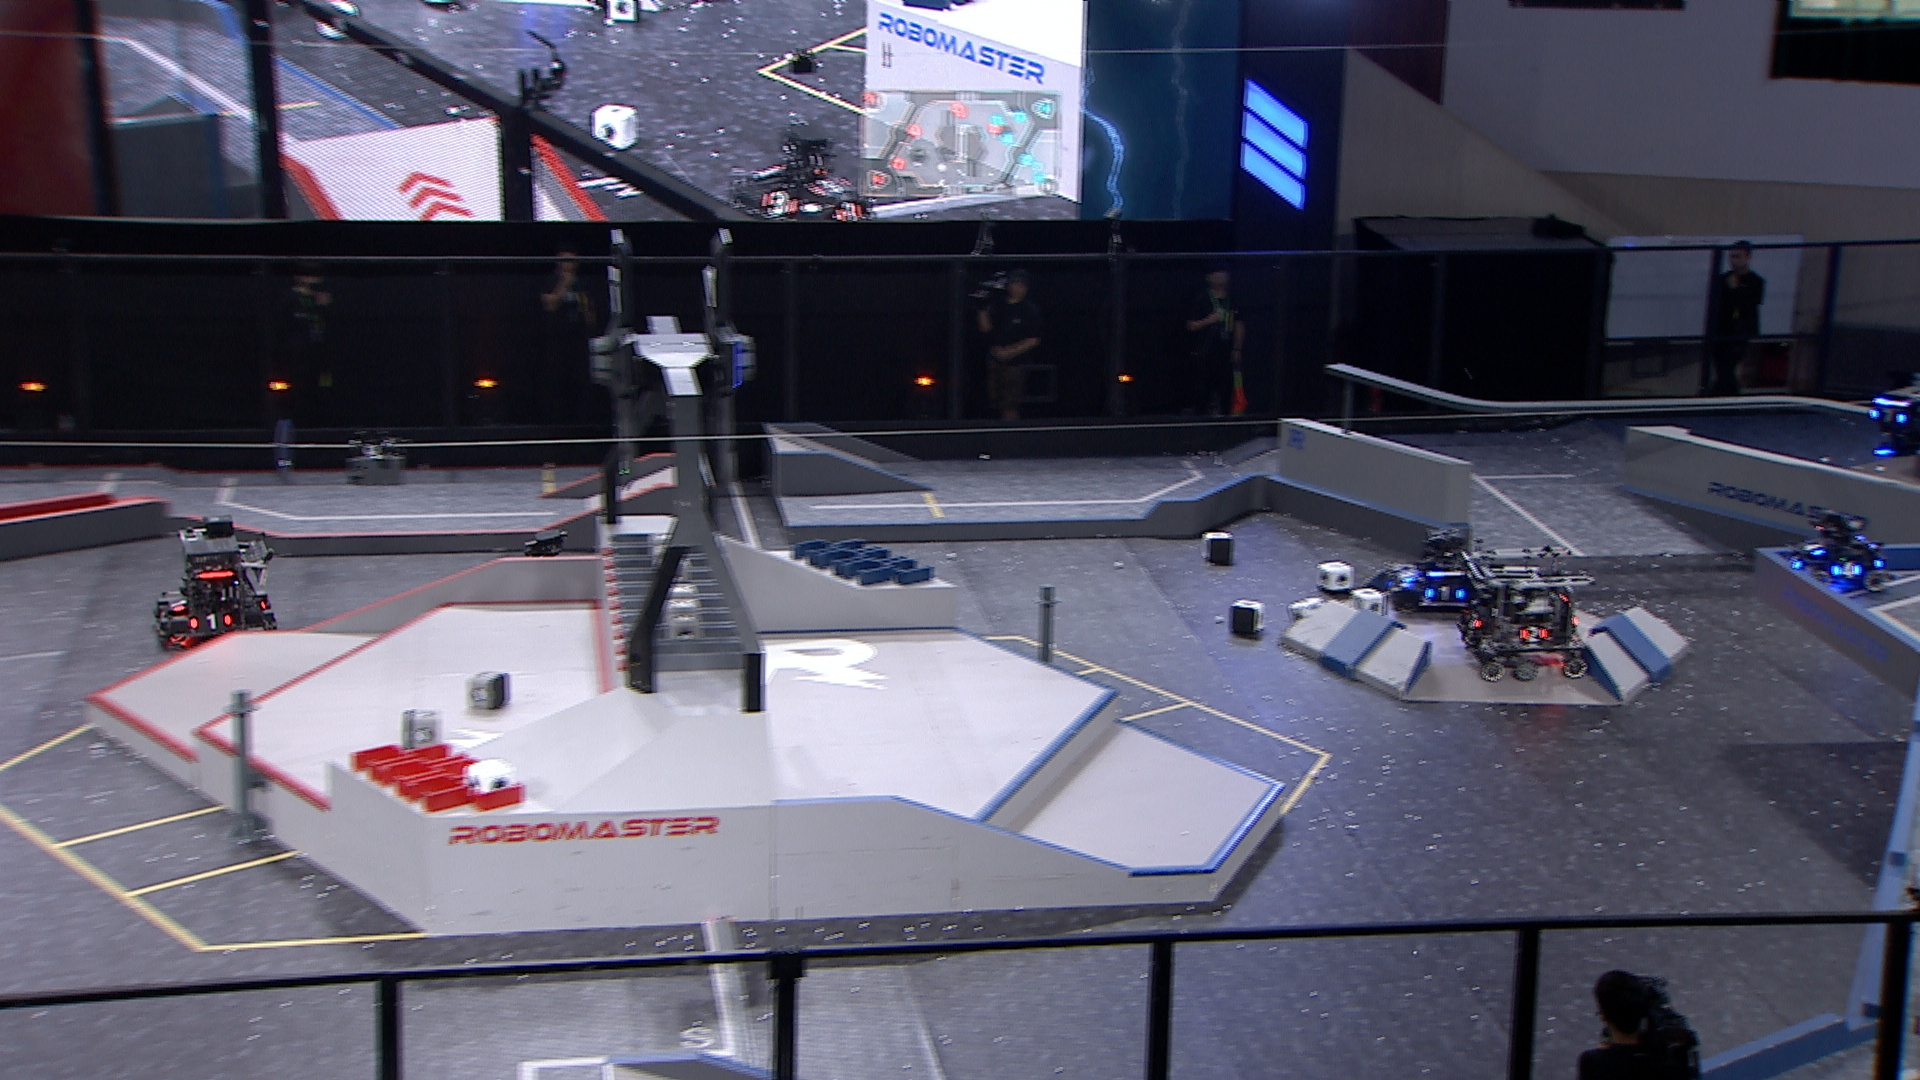armor: (189, 612, 233, 632), (1423, 584, 1466, 604), (1869, 406, 1907, 425), (1832, 560, 1865, 582), (1518, 624, 1549, 645), (1801, 541, 1826, 559), (167, 597, 190, 616), (1465, 611, 1482, 632), (1785, 553, 1803, 572)
car: (1456, 542, 1593, 683), (149, 524, 277, 651), (1390, 524, 1489, 618), (1780, 508, 1890, 593)
ignore: (727, 129, 876, 225)
watcher: (1866, 382, 1920, 460)
